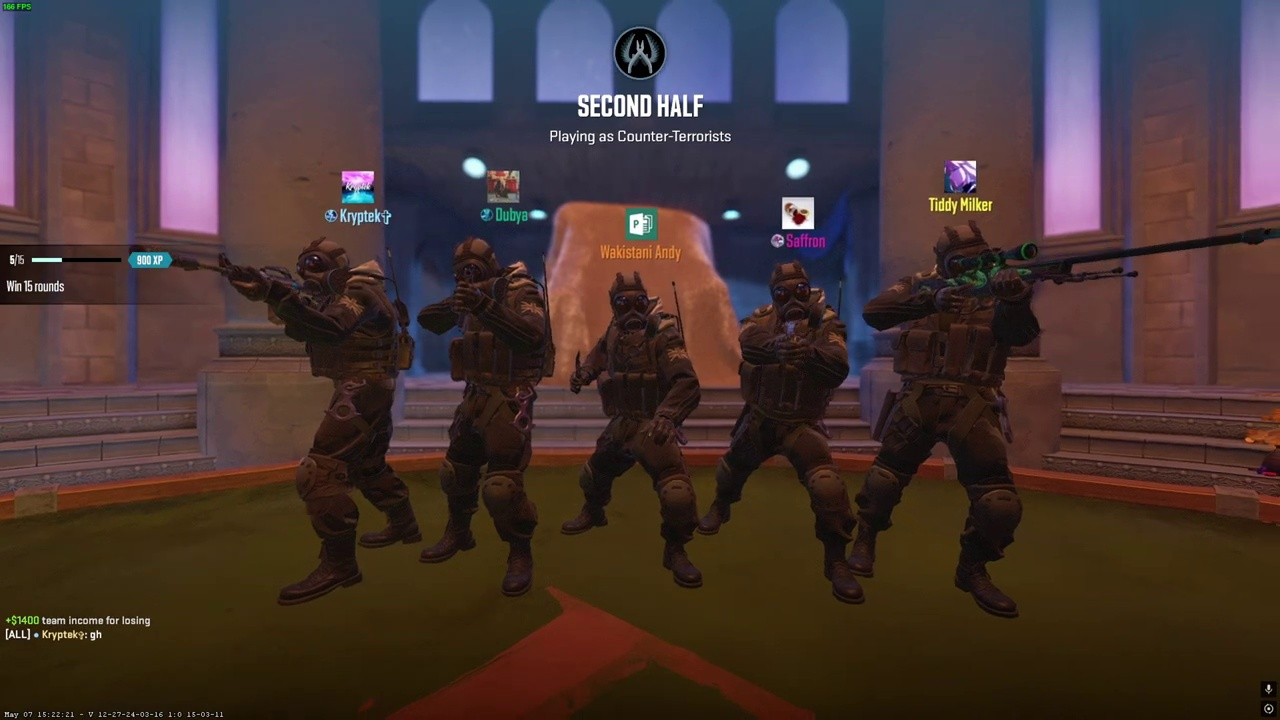CT: (861, 222, 1038, 619), (265, 239, 414, 594), (714, 259, 856, 604), (425, 238, 548, 583), (573, 270, 705, 586)
